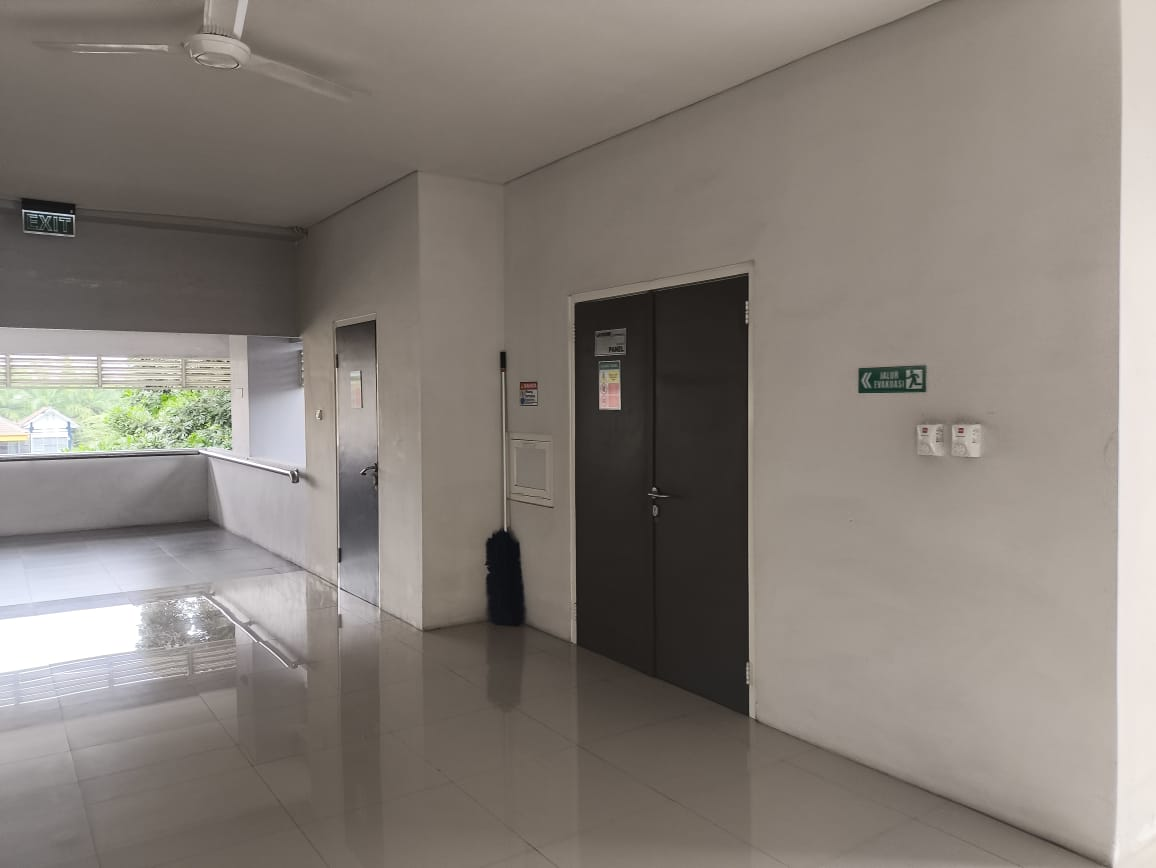ruang panel: (589, 324, 631, 358)
